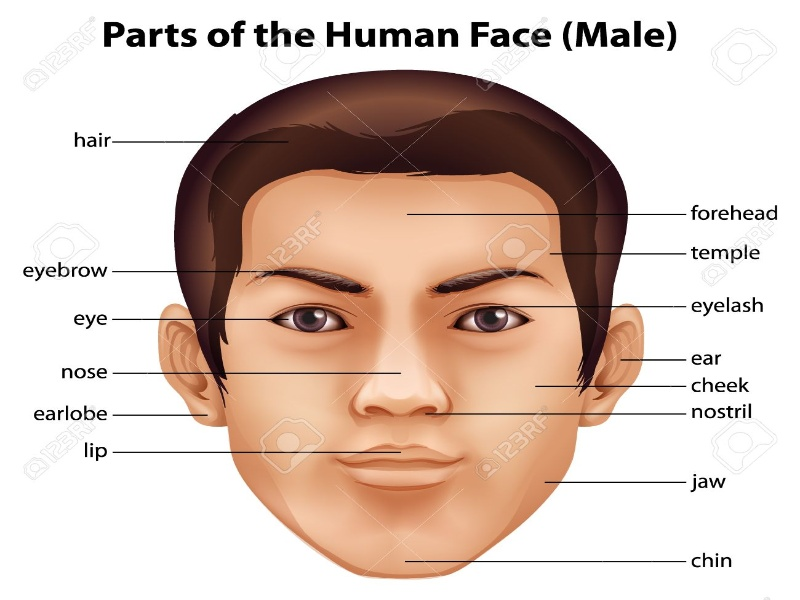face: (246, 209, 568, 546)
